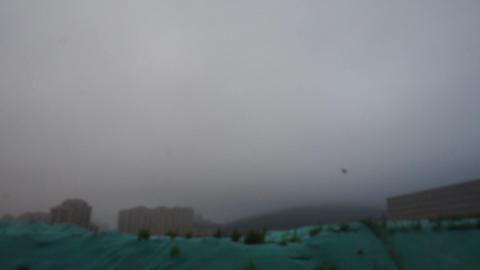UAV: (341, 168, 348, 174)
